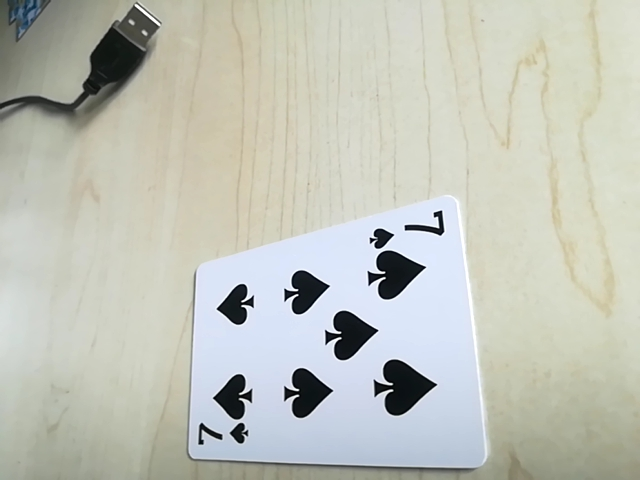ht 7: (366, 209, 455, 247), (192, 419, 253, 456)
